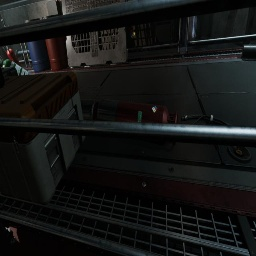0: (0, 59, 33, 76)
FireExtinguisher ]: (5, 46, 22, 68)
NitrogenTank ,: (97, 98, 178, 146), (0, 222, 15, 256), (80, 99, 99, 120)
